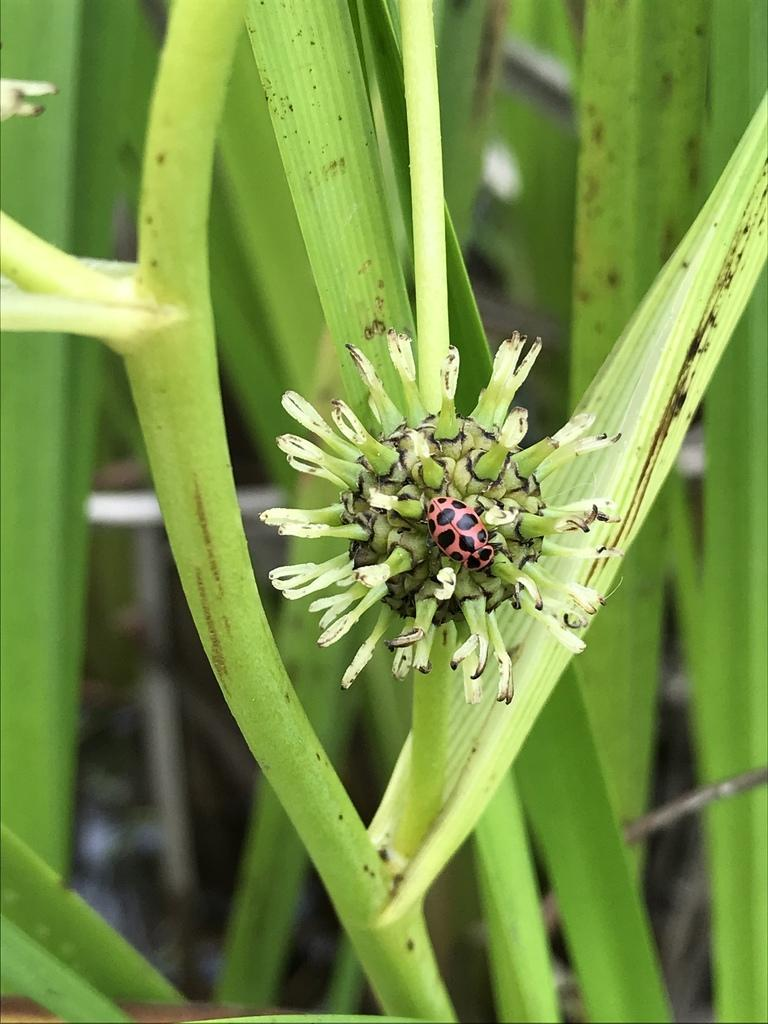ladybug: (416, 496, 506, 577)
